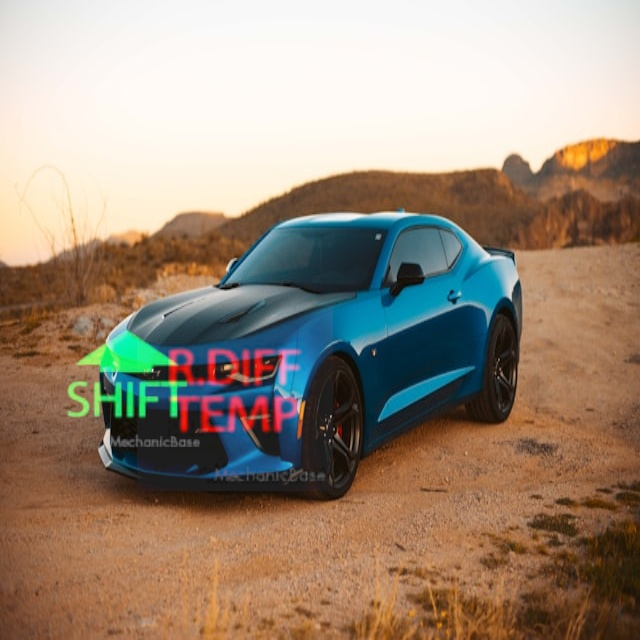symbol: (137, 295, 333, 491), (47, 296, 206, 455), (292, 16, 444, 168)
